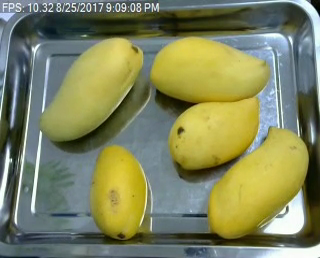Mango: (207, 120, 311, 237), (37, 36, 144, 143), (151, 37, 272, 104), (166, 93, 264, 175), (88, 146, 151, 241)
